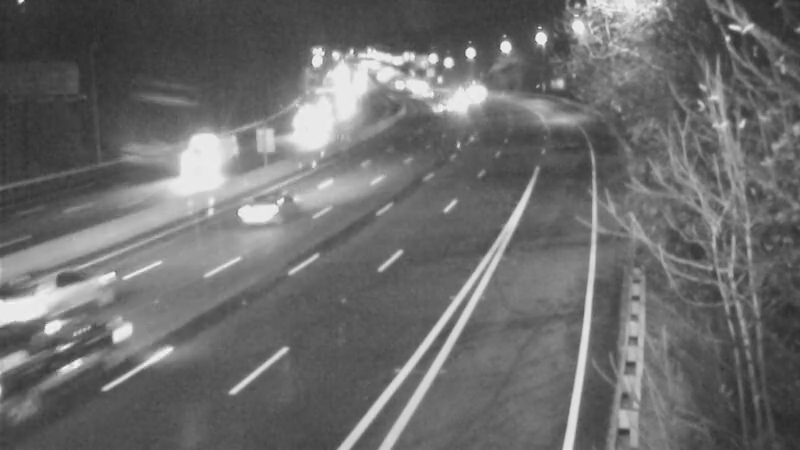vehicle: (1, 305, 105, 415), (219, 170, 299, 250), (10, 250, 90, 330), (160, 113, 240, 193), (454, 69, 504, 119), (402, 68, 452, 118), (429, 69, 479, 119), (417, 81, 467, 131), (282, 95, 332, 145)
